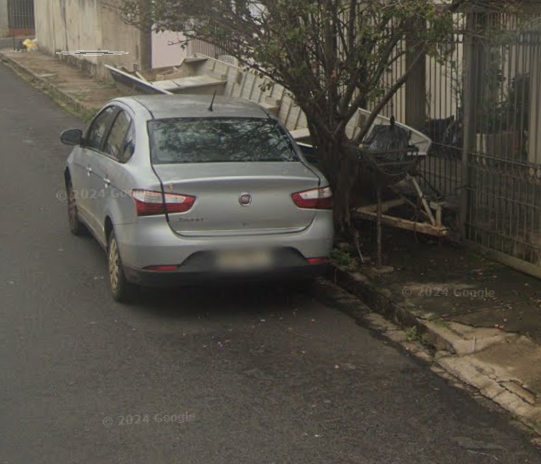car: (56, 86, 342, 305)
